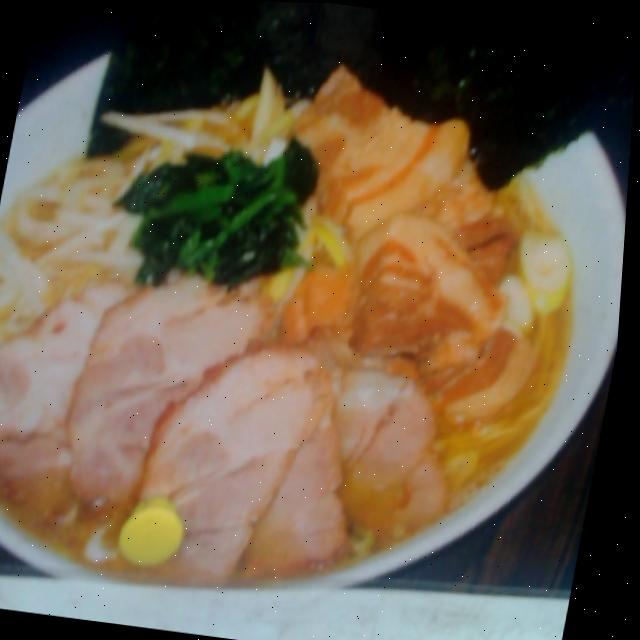面条主食: (0, 16, 616, 627)
